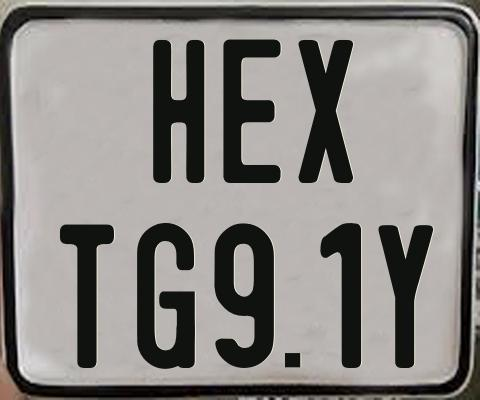1: (320, 220, 367, 368)
9: (214, 221, 275, 371)
E: (222, 36, 280, 180)
G: (136, 220, 197, 371)
H: (150, 39, 206, 187)
T: (58, 221, 113, 365)
X: (295, 38, 351, 182)
Y: (375, 225, 432, 369)
